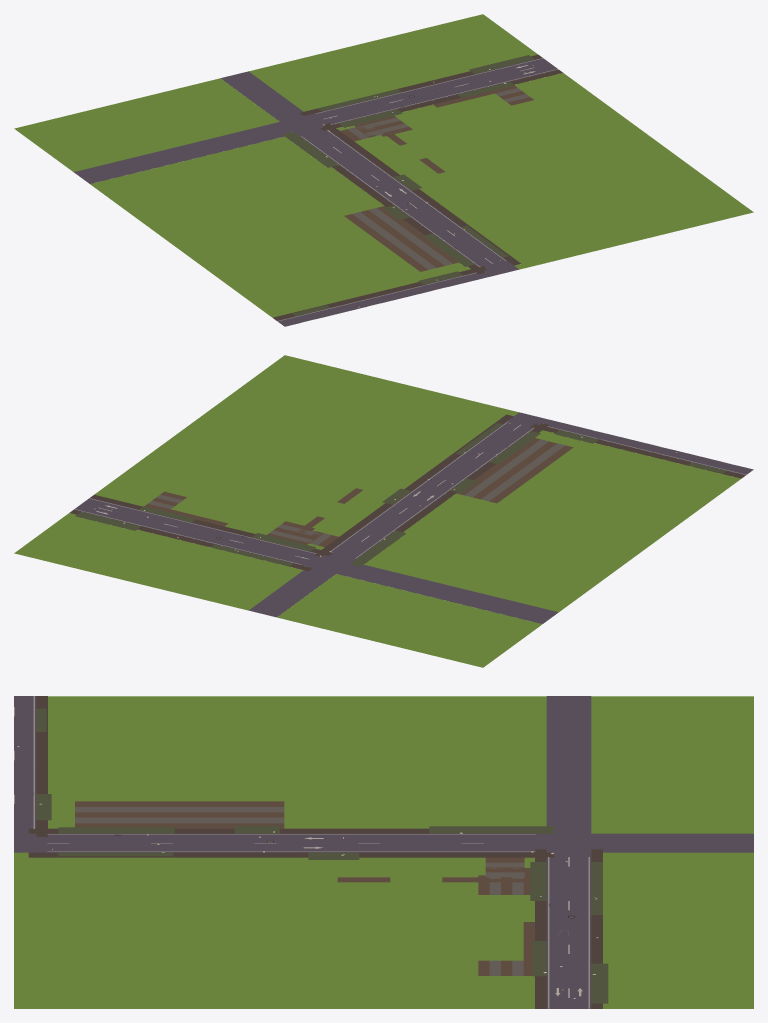
File: cure-12-2.glb
3 views of the same model, one above another, from view 1: azimuth 30°, elevation 25°; view 2: azimuth 150°, elevation 25°; view 3: azimuth 270°, elevation 25° (orthographic). The views are drawn at different scales.
Parts seen in each view (by area): view 1: cure-12-2; view 2: cure-12-2; view 3: cure-12-2.
Boxes of the visible parts, x1,y1,x2,y2 form: cure-12-2: [14, 14, 753, 326]; cure-12-2: [14, 355, 753, 667]; cure-12-2: [14, 696, 753, 1008].
Bounding box in the file's own units: 100 × 0.017 × 100.
